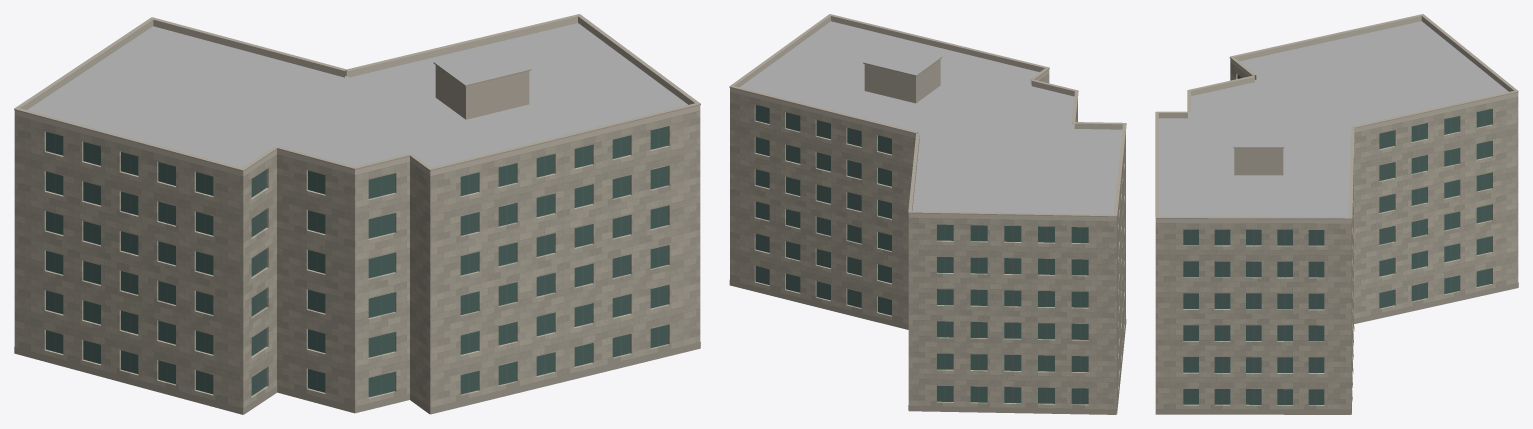
3 renders of one model, left to right at view 1: azimuth 30°, elevation 25°; view 2: azimuth 150°, elevation 25°; view 3: azimuth 270°, elevation 25°, orthographic. The views are drawn at different scales.
Visible parts, largest first — view 1: scienceTech__wall, scienceTech__roof, scienceTech__glass, scienceTech__parapet, scienceTech__trim, scienceTech__base, scienceTech__wall2, scienceTech__frame; view 2: scienceTech__wall, scienceTech__roof, scienceTech__glass, scienceTech__parapet, scienceTech__trim, scienceTech__base, scienceTech__wall2, scienceTech__frame; view 3: scienceTech__wall, scienceTech__roof, scienceTech__glass, scienceTech__parapet, scienceTech__trim, scienceTech__base, scienceTech__wall2, scienceTech__frame.
Part boxes in pixels (left/top/right/bottom): scienceTech__wall: left=14, top=110, right=700, bottom=414; scienceTech__roof: left=27, top=23, right=687, bottom=167; scienceTech__glass: left=46, top=126, right=668, bottom=397; scienceTech__parapet: left=14, top=16, right=700, bottom=176; scienceTech__trim: left=14, top=14, right=700, bottom=171; scienceTech__base: left=14, top=342, right=700, bottom=414; scienceTech__wall2: left=435, top=65, right=529, bottom=119; scienceTech__frame: left=54, top=128, right=659, bottom=394; scienceTech__wall: left=730, top=73, right=1125, bottom=412; scienceTech__roof: left=740, top=21, right=1122, bottom=214; scienceTech__glass: left=755, top=105, right=1088, bottom=404; scienceTech__parapet: left=730, top=16, right=1122, bottom=221; scienceTech__trim: left=729, top=14, right=1126, bottom=217; scienceTech__base: left=729, top=280, right=1126, bottom=414; scienceTech__wall2: left=864, top=59, right=940, bottom=103; scienceTech__frame: left=762, top=107, right=1080, bottom=404; scienceTech__wall: left=1155, top=62, right=1518, bottom=413; scienceTech__roof: left=1158, top=21, right=1508, bottom=216; scienceTech__glass: left=1183, top=75, right=1491, bottom=404; scienceTech__parapet: left=1155, top=16, right=1518, bottom=223; scienceTech__trim: left=1155, top=14, right=1518, bottom=219; scienceTech__base: left=1155, top=282, right=1518, bottom=414; scienceTech__wall2: left=1234, top=148, right=1283, bottom=175; scienceTech__frame: left=1190, top=111, right=1484, bottom=404.
Bounding box in the file's own units: 49.53 × 24.8 × 37.22.
Materials: 8 (1 with a texture image).
